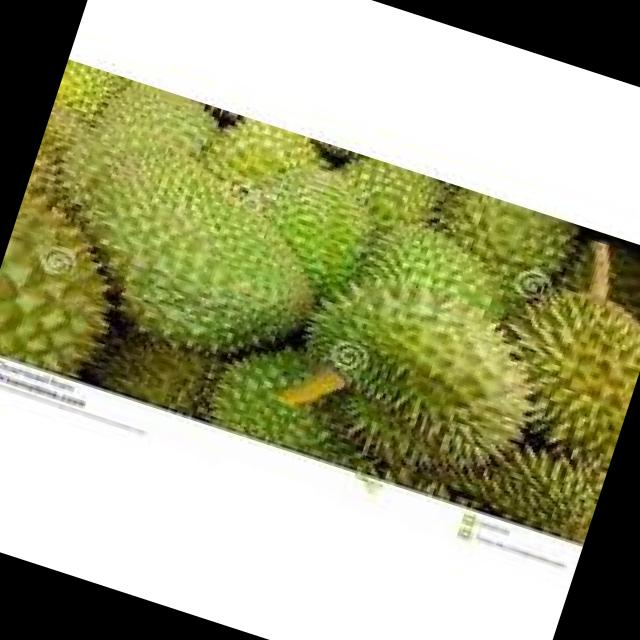fruit: (0, 61, 377, 449), (426, 237, 640, 552)
